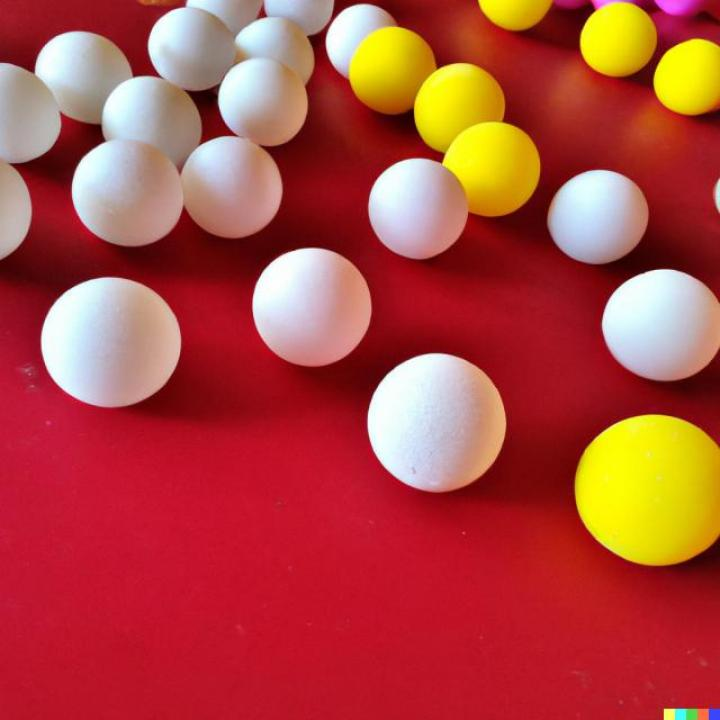white: (364, 352, 508, 494), (39, 276, 182, 408), (251, 246, 372, 368), (601, 269, 720, 382), (72, 140, 184, 248), (180, 136, 284, 241), (367, 158, 468, 259), (546, 167, 649, 265), (218, 57, 308, 146), (146, 8, 236, 91), (0, 58, 62, 166), (0, 158, 32, 265)
